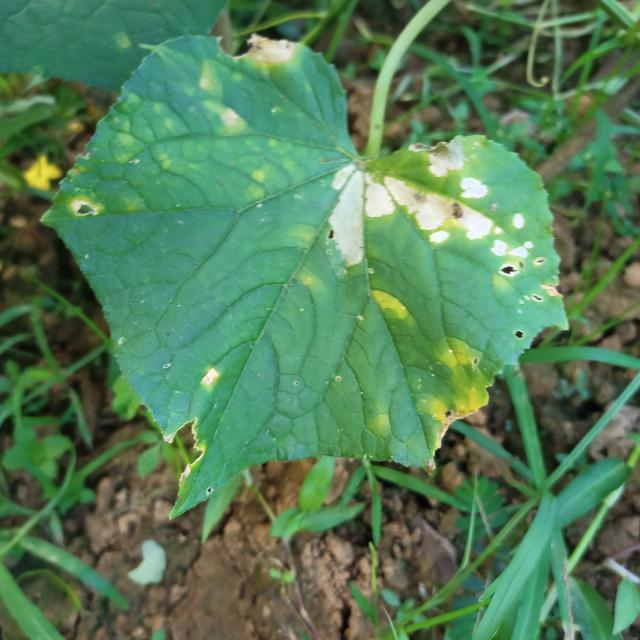disease_cucumber: (316, 130, 558, 302), (421, 336, 490, 438), (168, 58, 255, 137), (365, 280, 420, 328)
